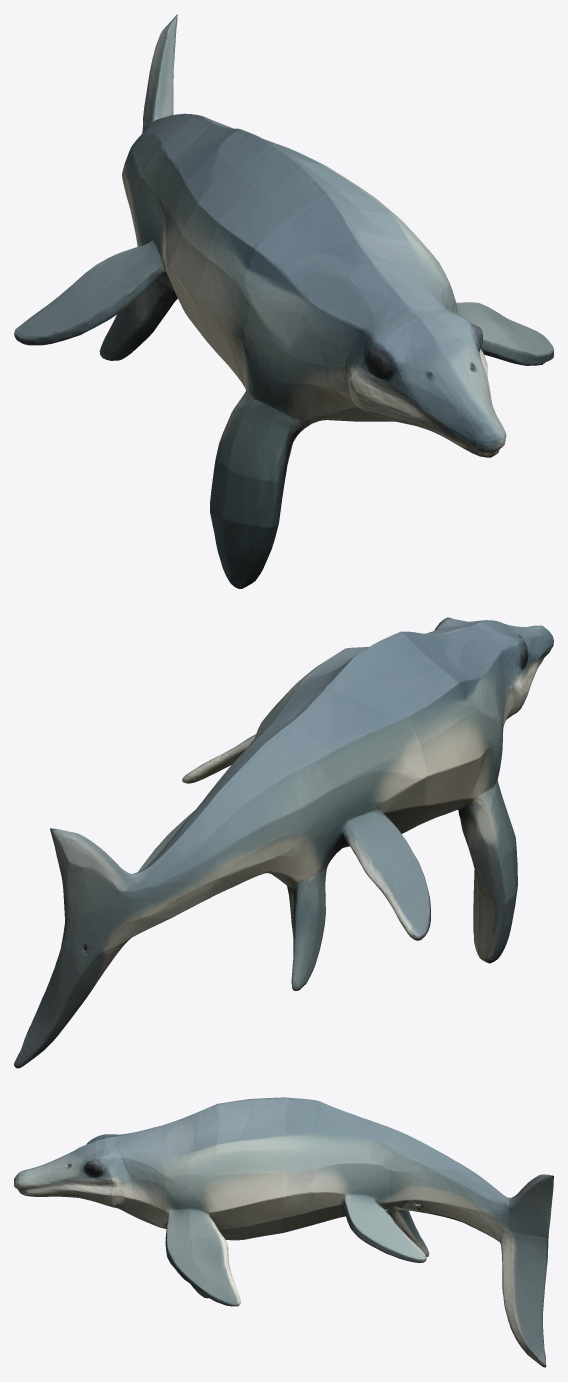
3 views of the same model, one above another, from view 1: azimuth 30°, elevation 25°; view 2: azimuth 150°, elevation 25°; view 3: azimuth 270°, elevation 25° (orthographic). The views are drawn at different scales.
Visible parts, largest first — view 1: world; view 2: world; view 3: world.
Part boxes in pixels (bbox=[...]): world: bbox=[14, 14, 553, 588]; world: bbox=[14, 617, 553, 1068]; world: bbox=[14, 1097, 553, 1367].
Bounding box in the file's own units: 7.33 × 6.51 × 14.
Materials: 1 (1 with a texture image).
